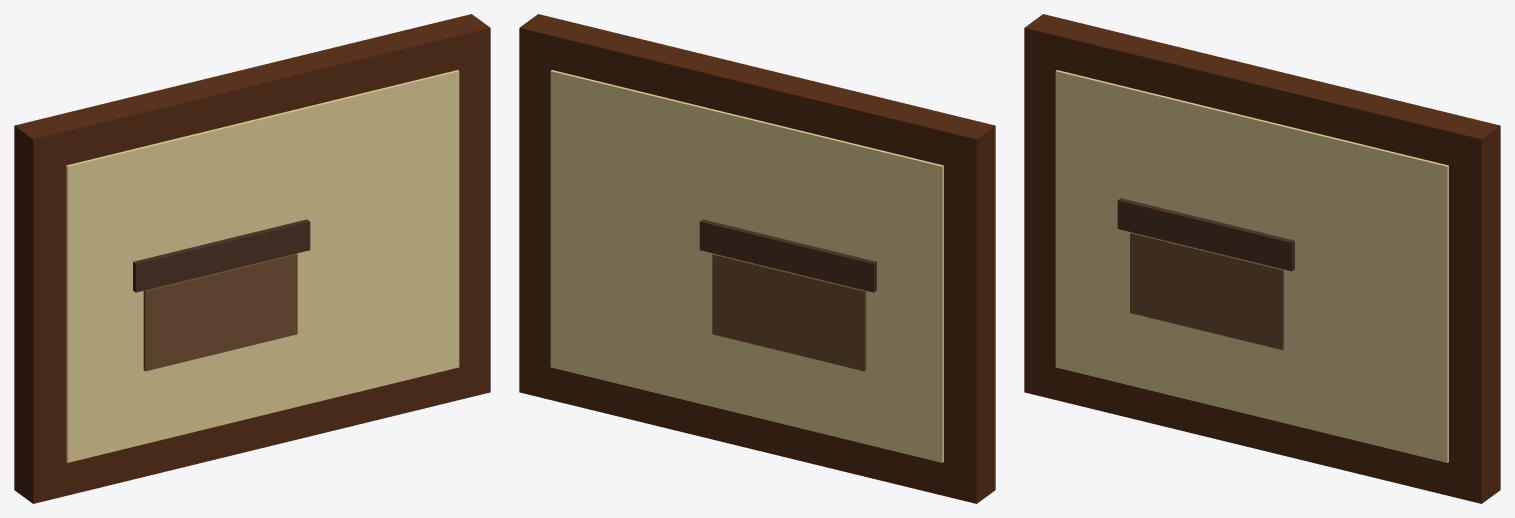
Rendered from passaporte_foto.glb.
3 views of the same model, side by side, from view 1: azimuth 30°, elevation 25°; view 2: azimuth 150°, elevation 25°; view 3: azimuth 330°, elevation 25° (orthographic).
Visible parts, largest first — view 1: _MeshInstance3D_685_2, _MeshInstance3D_684_3, _MeshInstance3D_686_1, _MeshInstance3D_687_0; view 2: _MeshInstance3D_685_2, _MeshInstance3D_684_3, _MeshInstance3D_686_1, _MeshInstance3D_687_0; view 3: _MeshInstance3D_685_2, _MeshInstance3D_684_3, _MeshInstance3D_686_1, _MeshInstance3D_687_0.
Part boxes in pixels (x1,y1,x2,y2): _MeshInstance3D_685_2: (66, 70, 459, 462); _MeshInstance3D_684_3: (14, 14, 490, 503); _MeshInstance3D_686_1: (143, 253, 297, 371); _MeshInstance3D_687_0: (133, 219, 310, 292); _MeshInstance3D_685_2: (550, 70, 943, 462); _MeshInstance3D_684_3: (519, 14, 995, 503); _MeshInstance3D_686_1: (712, 253, 866, 371); _MeshInstance3D_687_0: (699, 219, 876, 292); _MeshInstance3D_685_2: (1055, 70, 1448, 462); _MeshInstance3D_684_3: (1024, 14, 1500, 503); _MeshInstance3D_686_1: (1130, 232, 1283, 349); _MeshInstance3D_687_0: (1117, 198, 1294, 271).
Size of the model in its own units: 0.42 by 0.32 by 0.045.
